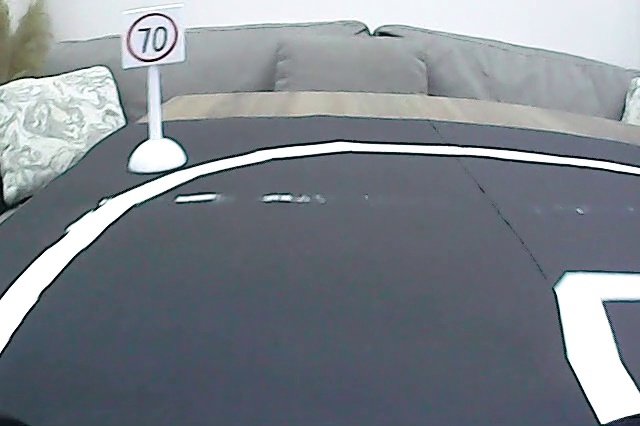speed limit 70: (125, 9, 180, 65)
